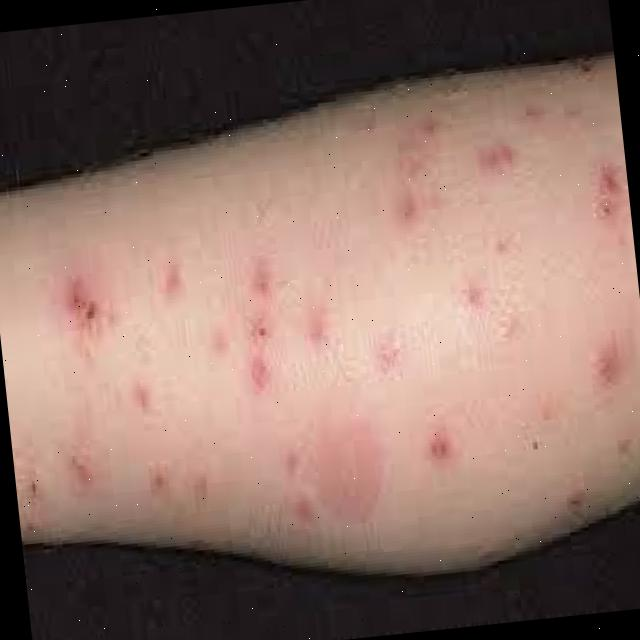kan emici bocekler: (11, 77, 640, 581)
